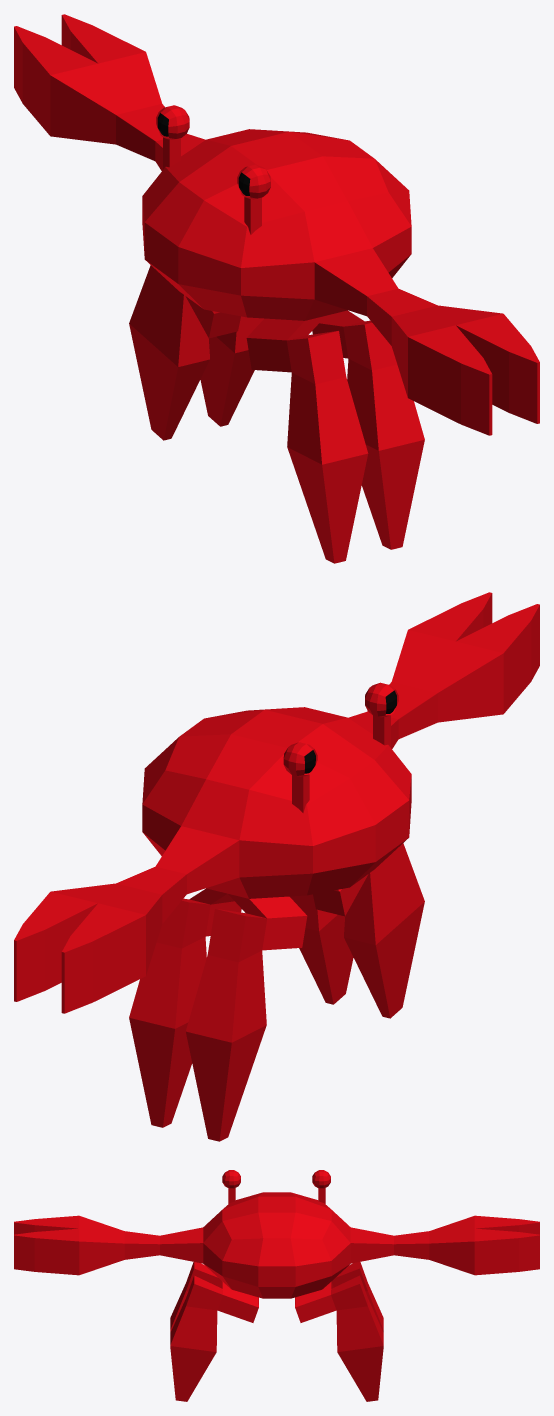
Rendered from Crab.fbx.
3 renders of one model, top to bottom at view 1: azimuth 30°, elevation 25°; view 2: azimuth 150°, elevation 25°; view 3: azimuth 270°, elevation 25°, orthographic. The views are drawn at different scales.
Parts seen in each view (by area): view 1: Quadsphere, Cube.001, Cube; view 2: Quadsphere, Cube, Cube.001; view 3: Quadsphere, Cube, Cube.001.
Boxes of the visible parts, box(x1,y1,x2,y2) form: Quadsphere: box(14, 14, 539, 563); Cube.001: box(237, 164, 270, 234); Cube: box(156, 105, 189, 169); Quadsphere: box(14, 592, 539, 1141); Cube: box(283, 742, 317, 812); Cube.001: box(365, 682, 398, 747); Quadsphere: box(14, 1192, 539, 1401); Cube: box(312, 1170, 330, 1203); Cube.001: box(222, 1170, 240, 1203).
Bounding box in the file's own units: 188 × 289 × 672.
